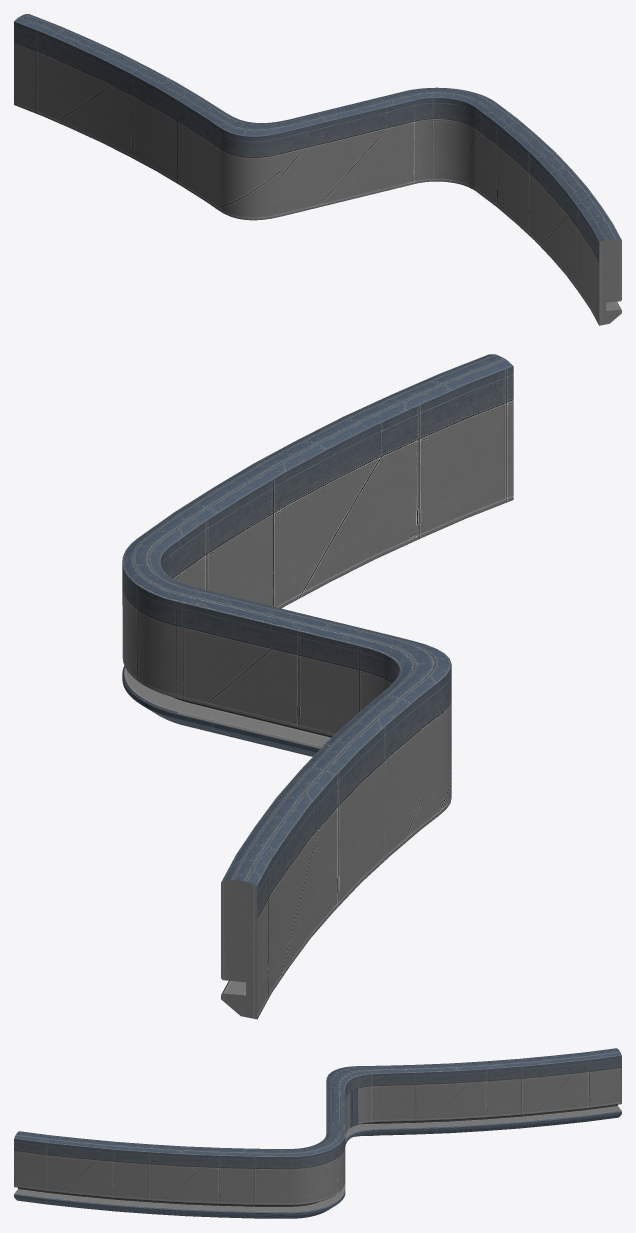
File: Club_RingBorderBend3x_01.FBX
3 views of the same model, one above another, from view 1: azimuth 30°, elevation 25°; view 2: azimuth 150°, elevation 25°; view 3: azimuth 270°, elevation 25° (orthographic). The views are drawn at different scales.
Visible parts, largest first — view 1: Club_RingBorderBend3x_01; view 2: Club_RingBorderBend3x_01; view 3: Club_RingBorderBend3x_01.
Part boxes in pixels (<box>): Club_RingBorderBend3x_01: <box>14,14,621,325</box>; Club_RingBorderBend3x_01: <box>122,354,513,1019</box>; Club_RingBorderBend3x_01: <box>14,1048,621,1218</box>.
Size of the model in its own units: 13.9 by 4.08 by 32.82.
